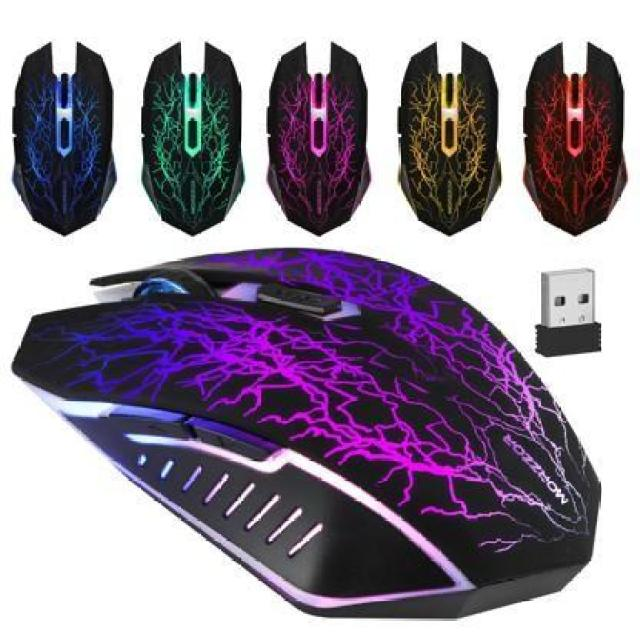not trash: (14, 234, 612, 618), (6, 34, 125, 240), (137, 31, 251, 244), (396, 38, 506, 245), (261, 45, 376, 242), (516, 39, 616, 238), (532, 257, 611, 368)
